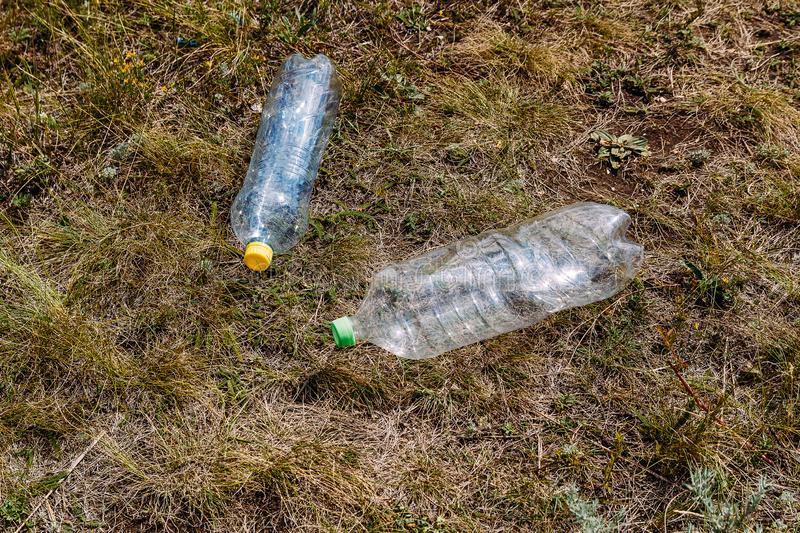bottle: (319, 177, 654, 357), (228, 36, 348, 292)
